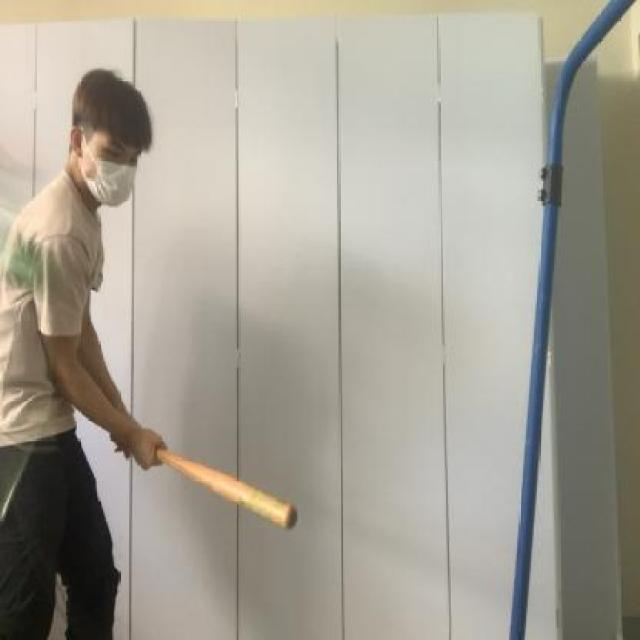baseball: (0, 211, 57, 295)
